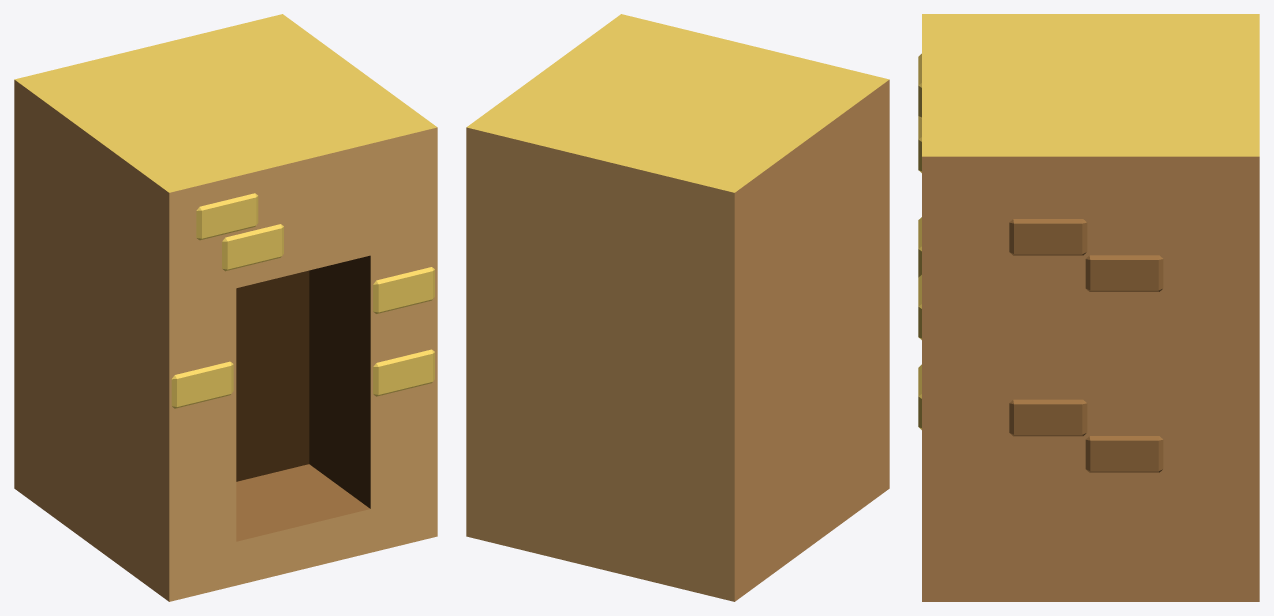
Rendered from ruin.fbx.
The picture shows the model from 3 angles, left to right: view 1: azimuth 30°, elevation 25°; view 2: azimuth 150°, elevation 25°; view 3: azimuth 270°, elevation 25°; orthographic projection. The views are drawn at different scales.
Visible parts, largest first — view 1: body, tile3, tile4, tile2, tile5, tile1; view 2: body; view 3: body, tile9, tile6, tile7, tile8.
Part boxes in pixels (left/top/right/bottom): body: left=14, top=14, right=437, bottom=601; tile3: left=171, top=361, right=233, bottom=408; tile4: left=196, top=193, right=258, bottom=240; tile2: left=373, top=349, right=434, bottom=396; tile5: left=222, top=224, right=283, bottom=271; tile1: left=373, top=267, right=434, bottom=313; body: left=466, top=14, right=889, bottom=601; body: left=922, top=14, right=1259, bottom=601; tile9: left=1009, top=399, right=1087, bottom=436; tile6: left=1009, top=219, right=1087, bottom=255; tile7: left=1085, top=255, right=1163, bottom=291; tile8: left=1085, top=436, right=1163, bottom=472.
Size of the model in its own units: 117 by 168 by 117.
Materials: 1 (1 with a texture image).
